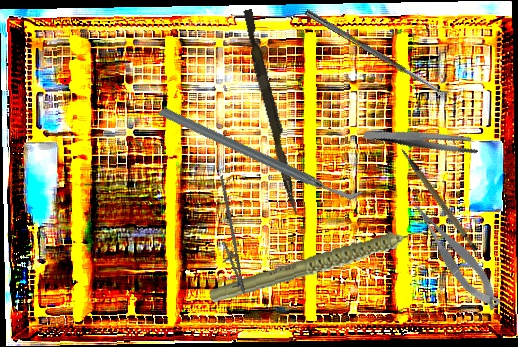Chopper: (157, 45, 366, 261)
Dressing Forceps: (362, 101, 482, 179)
Handpiece: (207, 228, 438, 304)
Micro Scissor: (407, 191, 506, 319)
Needle Holder: (196, 175, 261, 297)
Pusher: (238, 8, 306, 216)
Scalpel Handle: (399, 137, 481, 261)
Surgical Spoon: (303, 9, 450, 100)
